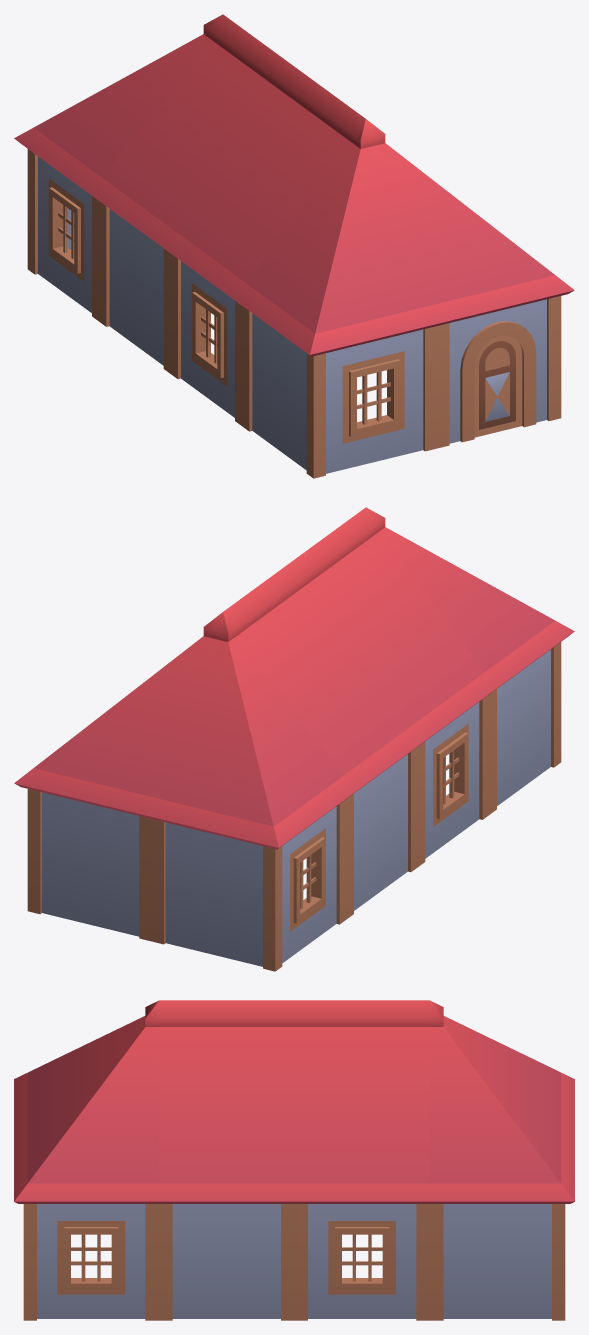
File: house_court.glb
The picture shows the model from 3 angles, top to bottom: view 1: azimuth 30°, elevation 25°; view 2: azimuth 150°, elevation 25°; view 3: azimuth 270°, elevation 25°; orthographic projection. The views are drawn at different scales.
Parts seen in each view (by area): view 1: house_court; view 2: house_court; view 3: house_court.
Boxes of the visible parts, x1,y1,x2,y2 form: house_court: [14, 14, 574, 478]; house_court: [14, 507, 574, 971]; house_court: [14, 1000, 574, 1320].
Size of the model in its own units: 6.42 by 6.42 by 12.42.
20 materials, 20 textured.
